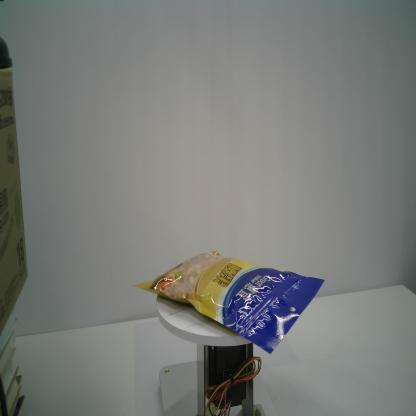Dried Fruit: (133, 249, 325, 355)
